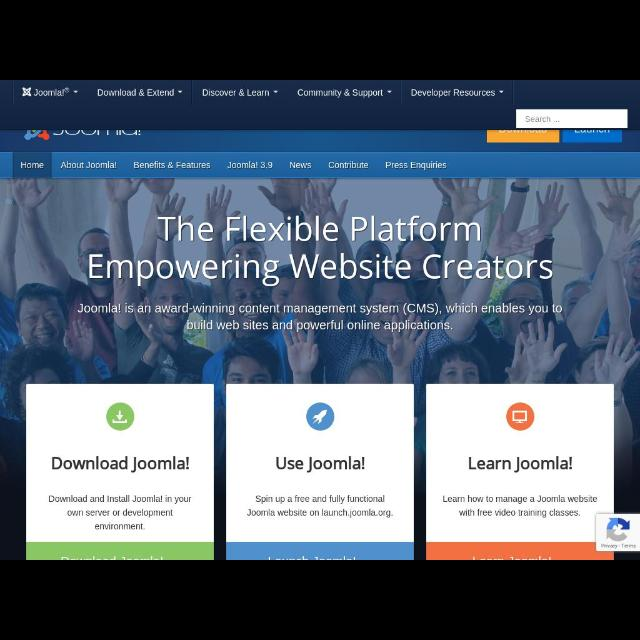backgroundimage: (1, 177, 640, 558)
button: (598, 514, 638, 550)
icon: (506, 403, 534, 431), (306, 404, 334, 431), (106, 404, 134, 431), (22, 88, 32, 96), (386, 90, 392, 94), (500, 90, 504, 94), (74, 90, 78, 92), (178, 91, 182, 93), (274, 91, 278, 93)
input: (516, 109, 628, 128)
multitab: (1, 152, 639, 178)
spinner: (297, 88, 391, 100), (411, 88, 504, 98), (96, 87, 184, 97), (200, 88, 278, 99), (34, 87, 78, 97)
text: (87, 216, 553, 288), (78, 302, 564, 332), (48, 494, 192, 532), (442, 495, 598, 517), (248, 495, 392, 517), (52, 456, 190, 472), (468, 456, 572, 472), (276, 457, 366, 473), (296, 90, 384, 98), (412, 89, 494, 97), (134, 161, 210, 169), (98, 89, 174, 97), (202, 89, 268, 98), (387, 162, 448, 170), (61, 161, 117, 169), (228, 161, 272, 169), (329, 161, 369, 169), (34, 88, 70, 96), (525, 116, 559, 124), (21, 162, 44, 168), (290, 162, 312, 168)
toolbar: (1, 80, 640, 132)
